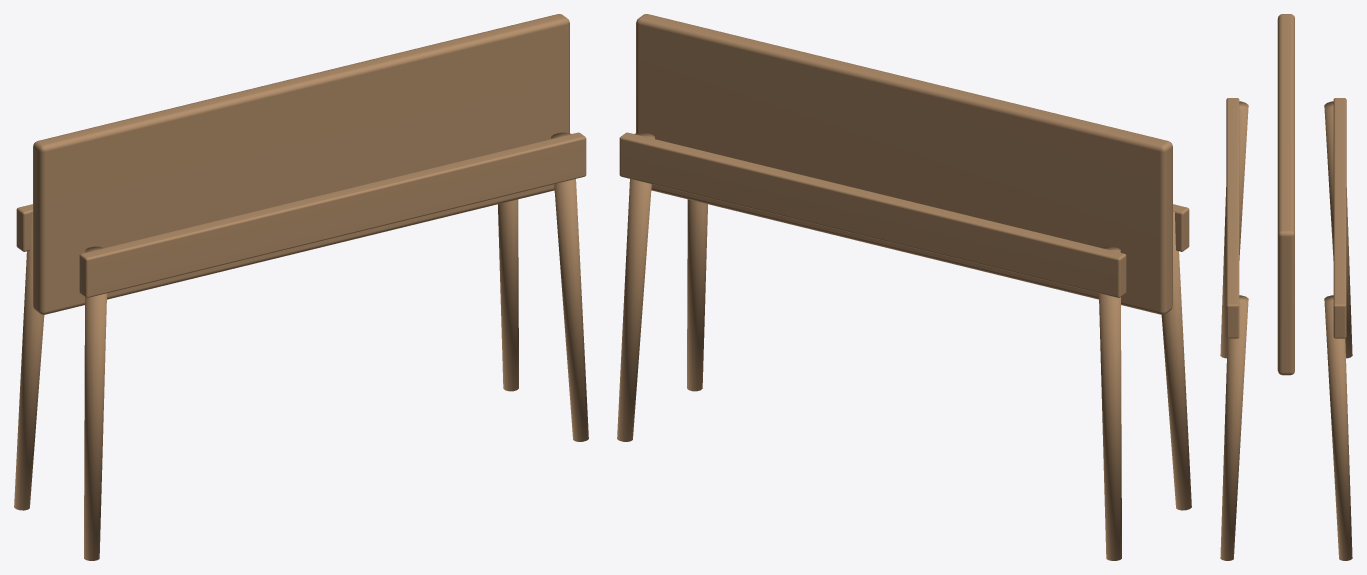
Rendered from atelier-breakfast-bar.glb.
3 views of the same model, side by side, from view 1: azimuth 30°, elevation 25°; view 2: azimuth 150°, elevation 25°; view 3: azimuth 270°, elevation 25° (orthographic). The views are drawn at different scales.
Visible parts, largest first — view 1: legs.063; view 2: legs.063; view 3: legs.063.
Boxes of the visible parts, left/top/right/bottom form: legs.063: left=14, top=14, right=588, bottom=560; legs.063: left=617, top=14, right=1191, bottom=560; legs.063: left=1220, top=14, right=1352, bottom=560.
Size of the model in its own units: 1.8 by 1.28 by 0.4563.
